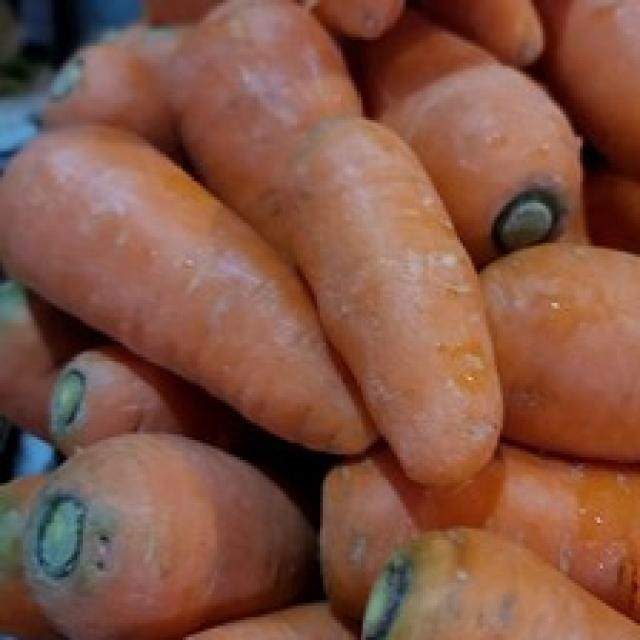Fresh_Carrot: (22, 107, 381, 443), (278, 120, 510, 474), (3, 434, 342, 640), (356, 40, 585, 245)
